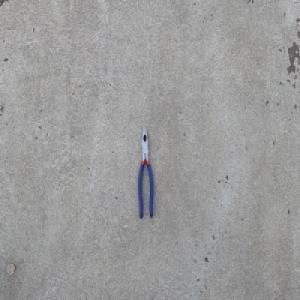Pliers: (137, 124, 153, 220)
